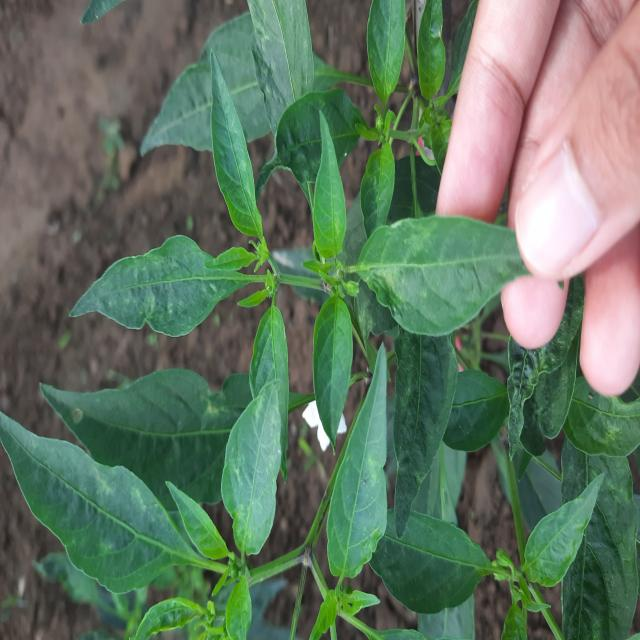sehat: (347, 209, 525, 340), (317, 340, 407, 573)
